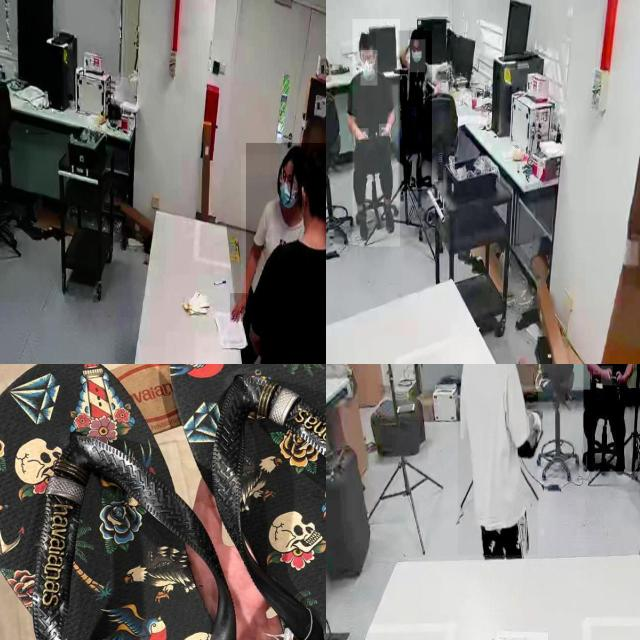Sandals: (0, 364, 326, 640)
face_mask: (277, 167, 301, 227), (360, 50, 378, 86), (408, 39, 426, 73)
hand_noglove: (230, 293, 248, 323), (601, 366, 613, 386), (615, 368, 625, 386), (356, 128, 369, 141), (379, 124, 391, 136)
head_nohelmet: (304, 146, 326, 181), (282, 144, 306, 167), (358, 31, 376, 49), (409, 28, 423, 40)
person: (245, 143, 326, 364), (457, 364, 538, 556), (241, 154, 311, 330), (352, 19, 400, 247), (583, 364, 640, 472), (398, 31, 432, 192)
shoes: (353, 201, 371, 242), (380, 196, 396, 240)
